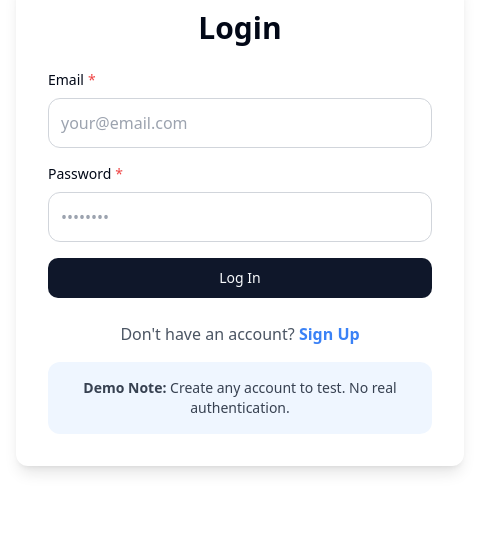
LoginPage › Form Validation › shows error for empty email
The width and height of the screenshot is (481, 558).
Click the button "Log In".
click(240, 278)  # box [48,258,432,298]
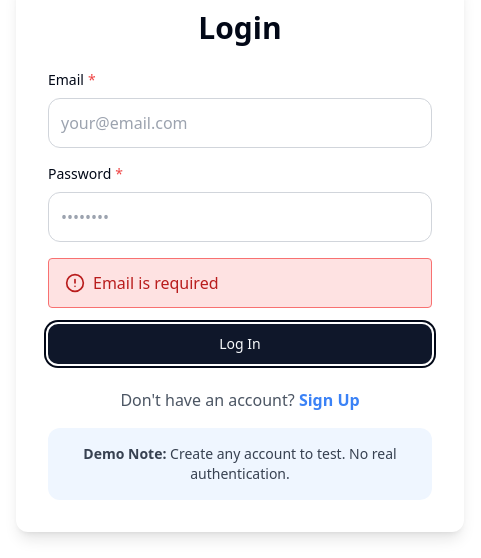
Now the text "Email is required" is shown, box [93,271,218,295]
